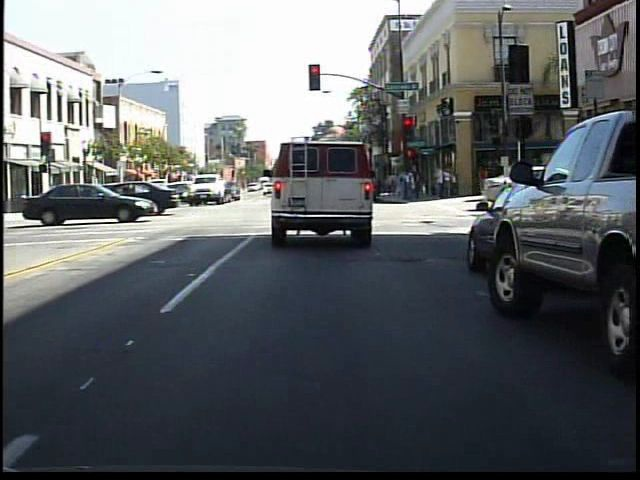person: (473, 159, 493, 198)
